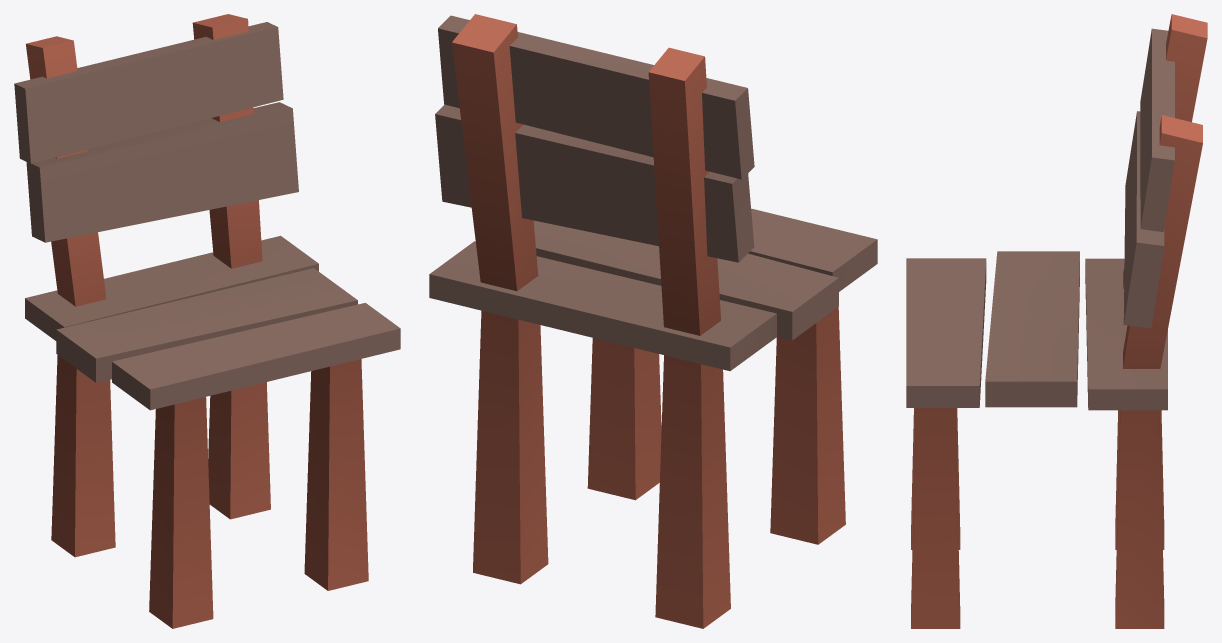
File: chair_001.glb
3 views of the same model, side by side, from view 1: azimuth 30°, elevation 25°; view 2: azimuth 150°, elevation 25°; view 3: azimuth 270°, elevation 25° (orthographic). The views are drawn at different scales.
Parts seen in each view (by area): view 1: chair_001; view 2: chair_001; view 3: chair_001.
Part boxes in pixels (<box>): chair_001: <box>14,14,400,628</box>; chair_001: <box>429,14,877,628</box>; chair_001: <box>906,14,1207,628</box>.
Size of the model in its own units: 0.6362 by 1.12 by 0.596.
Materials: 1 (1 with a texture image).
